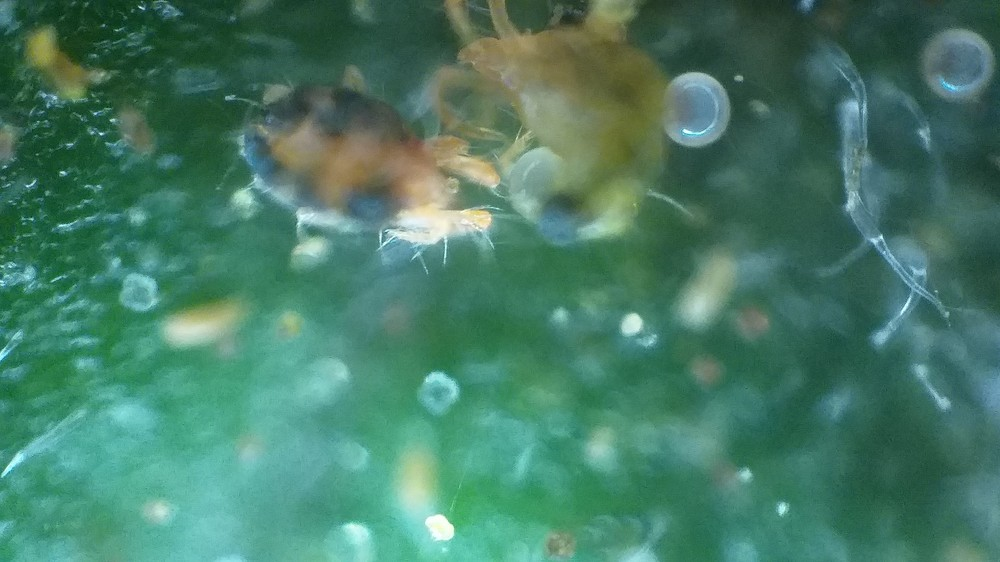Aracnido Rojo: (215, 63, 516, 279), (438, 1, 688, 257)
